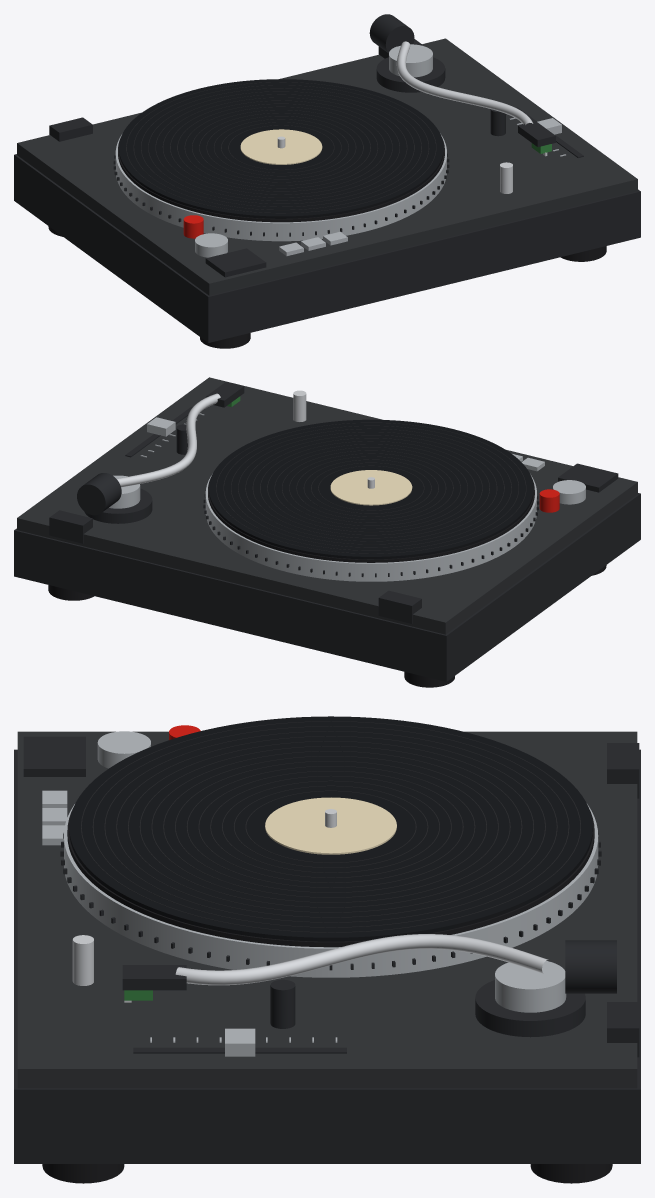
Rendered from turntable-lp120x.glb.
The picture shows the model from 3 angles, top to bottom: view 1: azimuth 30°, elevation 25°; view 2: azimuth 150°, elevation 25°; view 3: azimuth 270°, elevation 25°; orthographic projection. The views are drawn at different scales.
Parts seen in each view (by area): view 1: top deck, record, lower plinth, machined platter, record label, S-shaped tonearm tube, felt mat, counterweight, bearing mount, start stop, anti-skate collar, cover hinge (+8 smaller); view 2: top deck, record, lower plinth, machined platter, record label, cover hinge (×2), S-shaped tonearm tube, felt mat, counterweight, bearing mount, start stop, power switch (+11 smaller); view 3: top deck, record, lower plinth, machined platter, record label, S-shaped tonearm tube, bearing mount, anti-skate collar, felt mat, counterweight, cover hinge (×2), isolation foot (×2) (+18 smaller).
Part boxes in pixels (x1,y1,x2,y2): top deck: (17, 38, 637, 295); record: (119, 79, 443, 218); lower plinth: (14, 154, 640, 342); machined platter: (115, 133, 446, 241); record label: (240, 129, 322, 164); S-shaped tonearm tube: (396, 41, 533, 125); felt mat: (118, 138, 444, 222); counterweight: (369, 14, 414, 53); bearing mount: (376, 57, 445, 92); start stop: (205, 248, 266, 277); anti-skate collar: (389, 44, 432, 77); cover hinge: (49, 117, 92, 141); top deck: (17, 377, 637, 634); record: (209, 419, 533, 559); lower plinth: (14, 493, 640, 681); machined platter: (205, 474, 536, 581); record label: (330, 470, 412, 505); cover hinge (×2): (49, 510, 421, 623); S-shaped tonearm tube: (116, 393, 220, 487); felt mat: (208, 476, 534, 562); counterweight: (77, 473, 121, 515); bearing mount: (84, 488, 152, 523); start stop: (558, 463, 618, 492); power switch: (553, 480, 585, 504); top deck: (17, 731, 637, 1088); record: (69, 716, 592, 941); lower plinth: (14, 749, 640, 1163); machined platter: (64, 804, 598, 977); record label: (265, 797, 396, 854); S-shaped tonearm tube: (175, 934, 548, 985); bearing mount: (475, 980, 585, 1037); anti-skate collar: (495, 961, 566, 1012); felt mat: (67, 809, 594, 947); counterweight: (565, 940, 616, 993); cover hinge (×2): (607, 743, 639, 1057); isolation foot (×2): (42, 1164, 612, 1183).
Bounding box in the file's own units: 0.452 × 0.123 × 0.352.
